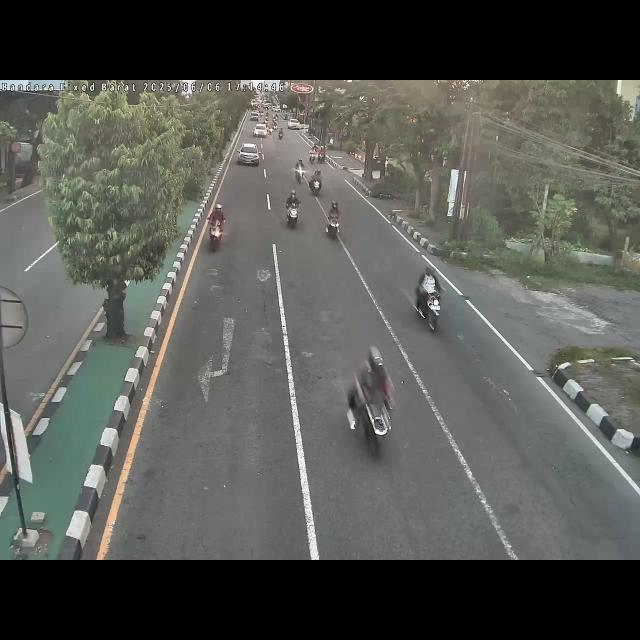Mobil: (236, 142, 262, 166)
Motor: (342, 342, 400, 464), (412, 262, 446, 341), (205, 199, 227, 255), (324, 198, 344, 242), (284, 186, 302, 232), (306, 168, 324, 198), (292, 158, 306, 185)
